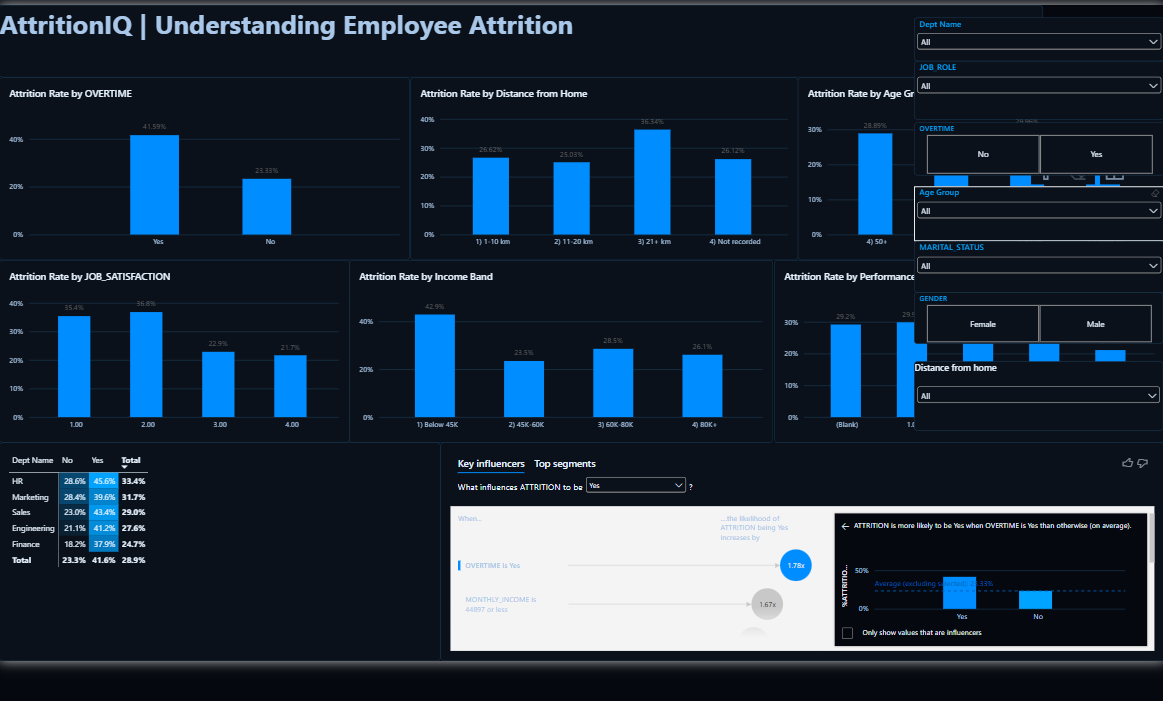

What the dashboard file says about the page in this screenshot:
{"tool":"powerbi","page":{"name":"Attrition Drivers","canvas":[1920,1080],"ordinal":1},"visuals":[{"type":"textbox","box":[0,0,1719.2,119.4],"z":0},{"type":"clusteredColumnChart","fields":{"Category":["HR_ATTRITION_FINAL.OVERTIME"],"Y":["_Measures.Attrition Rate"]},"box":[0,119.4,676.8,300.4],"z":1000},{"type":"clusteredColumnChart","fields":{"Category":["HR_ATTRITION_FINAL.Income Band"],"Y":["_Measures.Attrition Rate"]},"box":[577.3,419.8,698.5,300.4],"z":2000},{"type":"clusteredColumnChart","fields":{"Category":["HR_ATTRITION_FINAL.JOB_SATISFACTION"],"Y":["_Measures.Attrition Rate"]},"box":[0,419.8,577.3,300.4],"z":3000},{"type":"clusteredColumnChart","title":"Attrition Rate by Distance from Home","fields":{"Category":["HR_ATTRITION_FINAL.Distance Band"],"Y":["_Measures.Attrition Rate"]},"box":[676.8,119.4,638.8,300.4],"z":4000},{"type":"clusteredColumnChart","title":"Attrition Rate by Performance Rating","fields":{"Category":["HR_ATTRITION_FINAL.PERFORMANCE_RATING"],"Y":["_Measures.Attrition Rate"]},"box":[1275.8,419.8,644.2,300.4],"z":5000},{"type":"pivotTable","fields":{"Columns":["HR_ATTRITION_FINAL.OVERTIME"],"Rows":["HR_ATTRITION_FINAL.Dept Name"],"Values":["_Measures.Attrition Rate"]},"box":[0,720.2,727.5,360.1],"z":6000},{"type":"clusteredColumnChart","fields":{"Category":["HR_ATTRITION_FINAL.Age Group"],"Y":["_Measures.Attrition Rate"]},"box":[1315.6,119.4,604.4,300.4],"z":7000},{"type":"keyDriversVisual","fields":{"ExplainBy":["HR_ATTRITION_FINAL.OVERTIME","HR_ATTRITION_FINAL.MONTHLY_INCOME","HR_ATTRITION_FINAL.DISTANCE_FROM_HOME","HR_ATTRITION_FINAL.YEARS_AT_COMPANY","HR_ATTRITION_FINAL.JOB_SATISFACTION","Sum(HR_ATTRITION_FINAL.PERFORMANCE_RATING)","HR_ATTRITION_FINAL.Dept Name","HR_ATTRITION_FINAL.AGE"],"Target":["HR_ATTRITION_FINAL.ATTRITION"]},"box":[727.5,720.2,1192.6,360.1],"z":8000},{"type":"slicer","fields":{"Values":["HR_ATTRITION_FINAL.Dept Name"]},"box":[1507.4,19.9,412.6,72.4],"z":8001},{"type":"slicer","fields":{"Values":["HR_ATTRITION_FINAL.JOB_ROLE"]},"box":[1507.4,92.3,412.6,95.9],"z":8002},{"type":"slicer","fields":{"Values":["HR_ATTRITION_FINAL.Age Group"]},"box":[1507.4,298.6,412.6,90.5],"z":8003},{"type":"slicer","fields":{"Values":["HR_ATTRITION_FINAL.OVERTIME"]},"box":[1507.4,193.6,412.6,86.9],"z":8004},{"type":"slicer","fields":{"Values":["HR_ATTRITION_FINAL.MARITAL_STATUS"]},"box":[1507.4,389.1,412.6,85.1],"z":8005},{"type":"slicer","fields":{"Values":["HR_ATTRITION_FINAL.GENDER"]},"box":[1507.4,474.1,410.8,85.1],"z":8006},{"type":"slicer","title":"Distance from home","fields":{"Values":["HR_ATTRITION_FINAL.Distance Band"]},"box":[1507.4,586.3,410.8,114],"z":8007}]}

Visuals, with their boxes on the page's 1920x1080 design canvas (x1, y1, x2, y2). These are canvas units, not pixel positions in the 1163x701 screenshot, which may show the page scaled, cropped or inside an application window:
textbox: 0, 0, 1719, 119
clusteredColumnChart - HR_ATTRITION_FINAL.OVERTIME x _Measures.Attrition Rate: 0, 119, 677, 420
clusteredColumnChart - HR_ATTRITION_FINAL.Income Band x _Measures.Attrition Rate: 577, 420, 1276, 720
clusteredColumnChart - HR_ATTRITION_FINAL.JOB_SATISFACTION x _Measures.Attrition Rate: 0, 420, 577, 720
"Attrition Rate by Distance from Home" clusteredColumnChart: 677, 119, 1316, 420
"Attrition Rate by Performance Rating" clusteredColumnChart: 1276, 420, 1920, 720
pivotTable - HR_ATTRITION_FINAL.OVERTIME x HR_ATTRITION_FINAL.Dept Name: 0, 720, 728, 1080
clusteredColumnChart - HR_ATTRITION_FINAL.Age Group x _Measures.Attrition Rate: 1316, 119, 1920, 420
keyDriversVisual - HR_ATTRITION_FINAL.OVERTIME x HR_ATTRITION_FINAL.MONTHLY_INCOME: 728, 720, 1920, 1080
slicer - HR_ATTRITION_FINAL.Dept Name: 1507, 20, 1920, 92
slicer - HR_ATTRITION_FINAL.JOB_ROLE: 1507, 92, 1920, 188
slicer - HR_ATTRITION_FINAL.Age Group: 1507, 299, 1920, 389
slicer - HR_ATTRITION_FINAL.OVERTIME: 1507, 194, 1920, 280
slicer - HR_ATTRITION_FINAL.MARITAL_STATUS: 1507, 389, 1920, 474
slicer - HR_ATTRITION_FINAL.GENDER: 1507, 474, 1918, 559
"Distance from home" slicer: 1507, 586, 1918, 700
